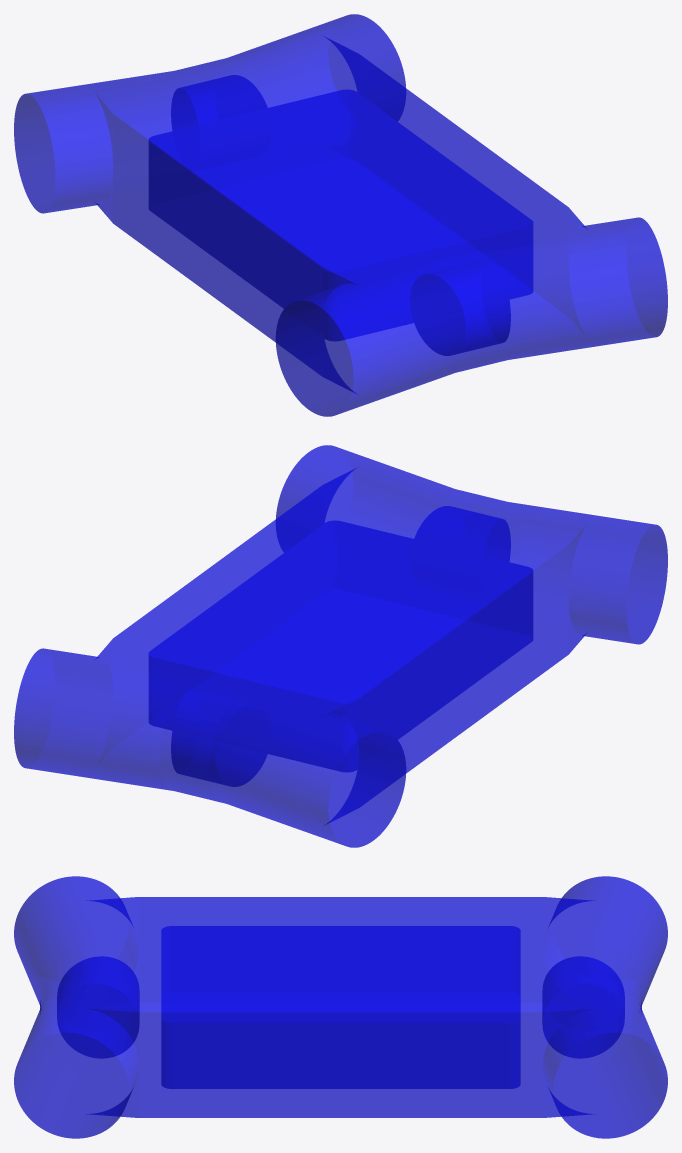
The model's file is soft_body_simplified.obj.
3 renders of one model, top to bottom at view 1: azimuth 30°, elevation 25°; view 2: azimuth 150°, elevation 25°; view 3: azimuth 270°, elevation 25°, orthographic. The views are drawn at different scales.
Parts seen in each view (by area): view 1: Solid1; view 2: Solid1; view 3: Solid1.
Boxes of the visible parts, x1=… form: Solid1: x1=14, y1=14, x2=667, y2=416; Solid1: x1=14, y1=445, x2=667, y2=847; Solid1: x1=14, y1=876, x2=667, y2=1138.
Size of the model in its own units: 214 by 64 by 359.
